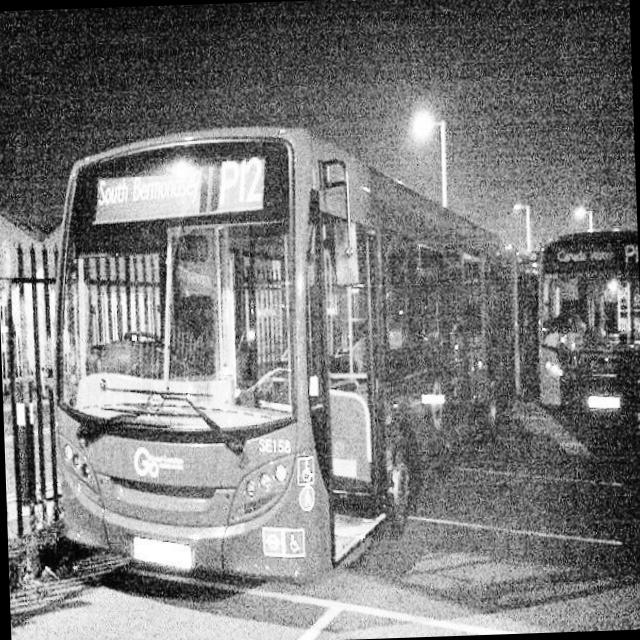Bus: (58, 106, 528, 606), (530, 220, 640, 461)
